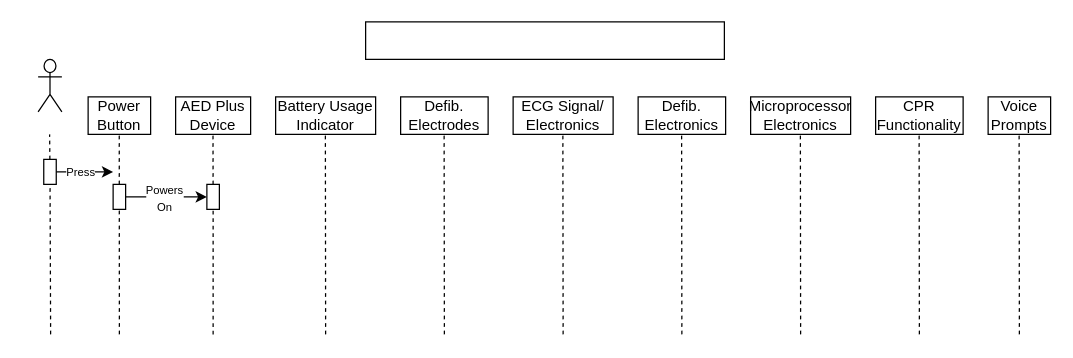
This 1073x358 diagram has some shape labels left out. Here are the shapes that lost their labels. From the top down, the centre of each, then its label:
At (544,40): "SEQUENCE DIAGRAM - UC 2".
At (49,85): "Rescuer".
